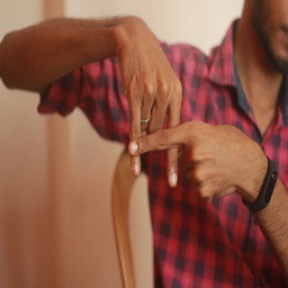H: (107, 84, 219, 188)
